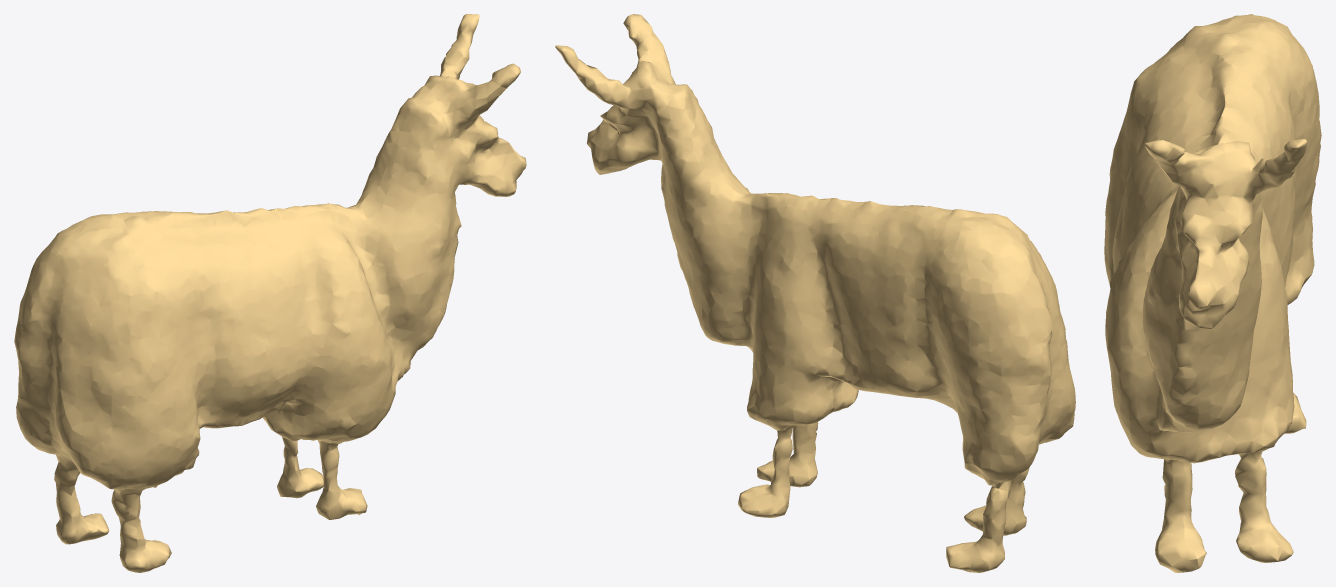
File: Llama.glb
3 views of the same model, side by side, from view 1: azimuth 30°, elevation 25°; view 2: azimuth 150°, elevation 25°; view 3: azimuth 270°, elevation 25° (orthographic). The views are drawn at different scales.
Visible parts, largest first — view 1: model.obj; view 2: model.obj; view 3: model.obj.
Part boxes in pixels (box(x1,y1,x2,y2)): model.obj: box(14, 14, 526, 572); model.obj: box(555, 14, 1075, 572); model.obj: box(1104, 14, 1321, 572).
Bounding box in the file's own units: 1.63 × 1.38 × 0.5109.
